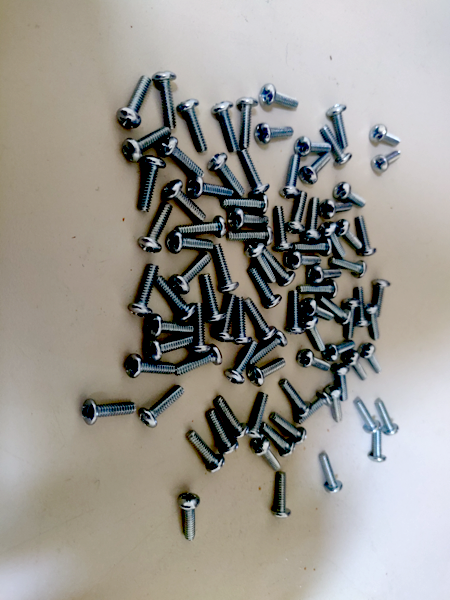shortscrew: (116, 75, 153, 130), (139, 385, 185, 428), (160, 137, 206, 179), (163, 179, 206, 223), (156, 277, 198, 321), (121, 127, 172, 163), (169, 253, 212, 295), (139, 202, 173, 254), (187, 430, 226, 474), (137, 156, 167, 213), (128, 264, 160, 317), (177, 99, 208, 153), (208, 153, 245, 198), (214, 395, 250, 440), (206, 409, 240, 456), (153, 70, 178, 130), (240, 149, 271, 197), (176, 344, 222, 376), (248, 266, 282, 309), (82, 398, 136, 425), (225, 341, 258, 385), (244, 298, 277, 342), (249, 330, 287, 367), (212, 101, 239, 153), (213, 244, 240, 294), (200, 274, 227, 323), (321, 126, 353, 167), (145, 336, 193, 363), (279, 379, 312, 418), (125, 354, 176, 379), (174, 215, 227, 239), (261, 422, 296, 458), (296, 390, 333, 424), (264, 248, 296, 287), (246, 242, 276, 283), (166, 230, 214, 255), (213, 293, 237, 343), (271, 413, 308, 445), (145, 314, 194, 338), (236, 98, 258, 150), (248, 358, 287, 387), (178, 493, 201, 542), (189, 303, 211, 354), (279, 154, 303, 200), (187, 177, 234, 200), (326, 104, 350, 149), (271, 471, 293, 519), (221, 194, 269, 216), (299, 153, 332, 185), (260, 83, 300, 109), (285, 190, 308, 235), (272, 207, 295, 252), (318, 295, 352, 325), (252, 438, 282, 472), (248, 392, 269, 440), (300, 315, 327, 352), (233, 296, 253, 345), (355, 398, 382, 434), (320, 222, 347, 258), (320, 452, 343, 494), (228, 208, 270, 231), (227, 225, 273, 246), (375, 399, 400, 436), (286, 290, 306, 336), (354, 216, 377, 256), (303, 197, 323, 242), (333, 182, 367, 208), (254, 123, 294, 145), (333, 220, 362, 250), (341, 297, 361, 340), (300, 298, 335, 322), (329, 257, 367, 279), (292, 237, 333, 257), (342, 350, 368, 381), (296, 349, 331, 372), (331, 363, 351, 402), (358, 342, 383, 373), (294, 136, 332, 156), (372, 280, 391, 318), (354, 286, 371, 328), (285, 251, 322, 270), (323, 341, 356, 362), (372, 151, 402, 174), (319, 199, 353, 219), (370, 124, 402, 145), (368, 427, 387, 462), (327, 384, 344, 423), (365, 304, 380, 341)
